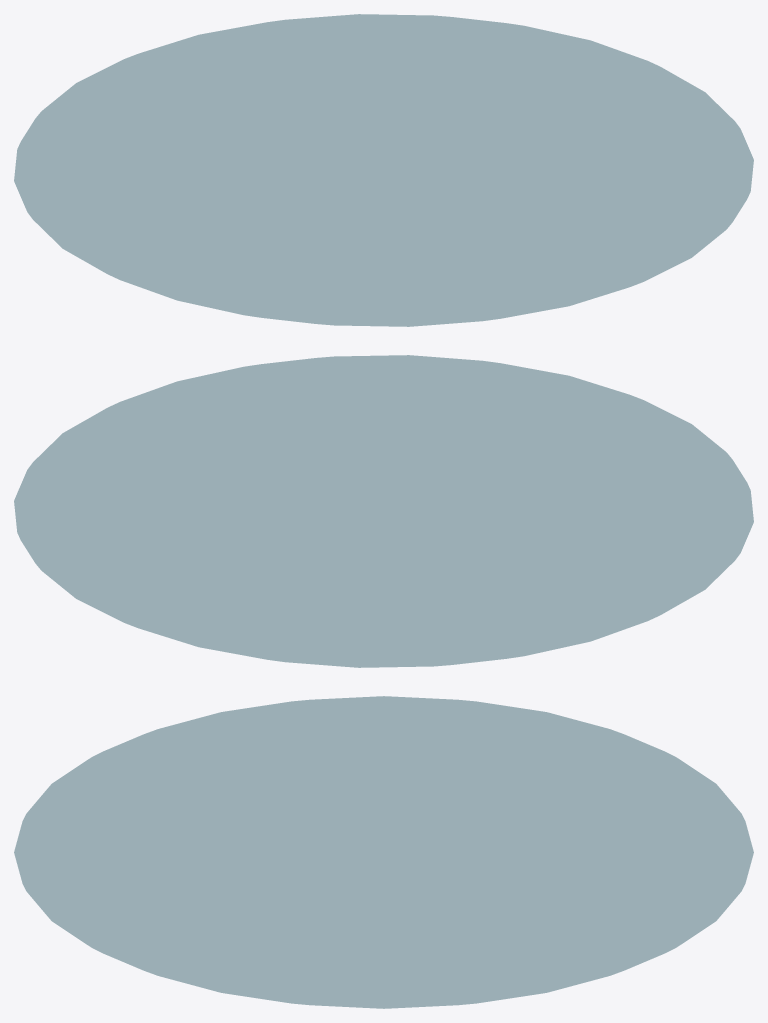
The model's file is waterplane.glb.
The picture shows the model from 3 angles, top to bottom: view 1: azimuth 30°, elevation 25°; view 2: azimuth 150°, elevation 25°; view 3: azimuth 270°, elevation 25°; orthographic projection.
Visible parts, largest first — view 1: waterplane; view 2: waterplane; view 3: waterplane.
Boxes of the visible parts, left/top/right/bottom form: waterplane: left=14, top=14, right=753, bottom=326; waterplane: left=14, top=355, right=753, bottom=667; waterplane: left=14, top=696, right=753, bottom=1008.
Bounding box in the file's own units: 10 × 4.37e-07 × 10.
